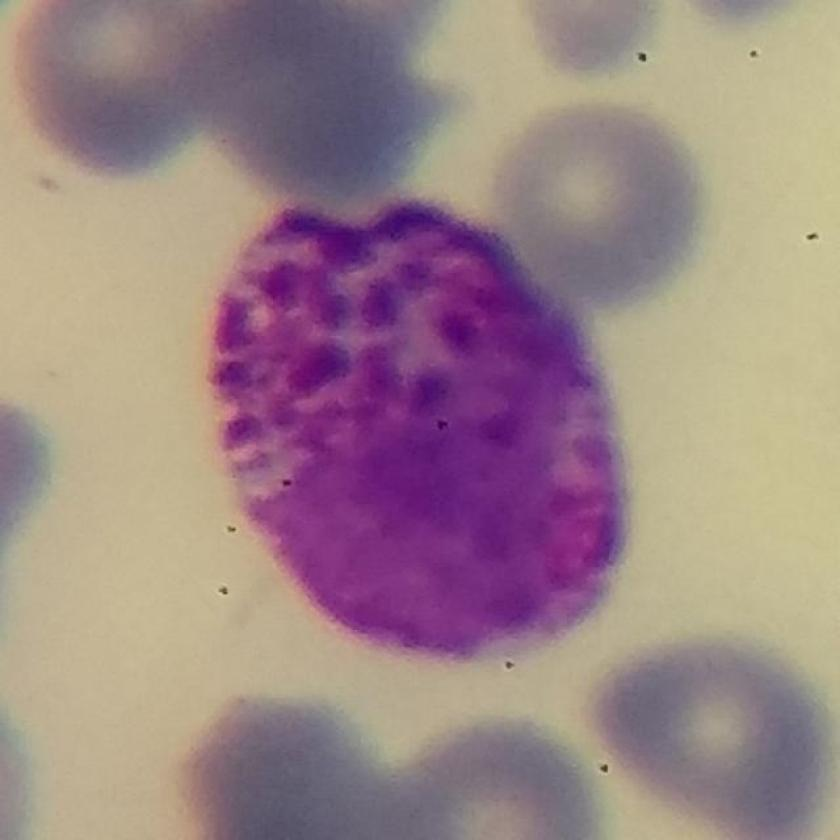basophil: (198, 186, 637, 676)
